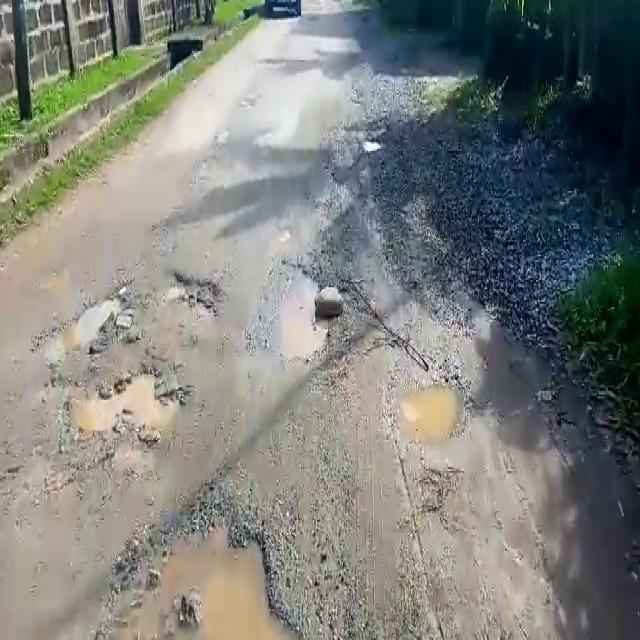Pothole: (121, 505, 328, 640), (60, 368, 188, 443), (31, 289, 132, 363), (265, 259, 331, 360), (391, 377, 466, 451), (168, 268, 225, 312)
